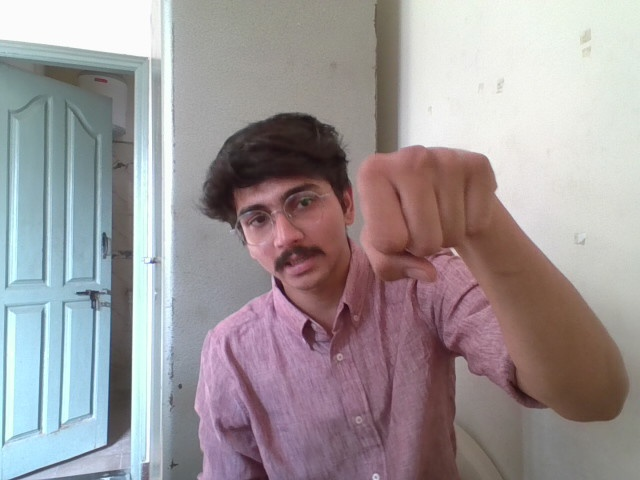yes: (355, 134, 506, 280)
